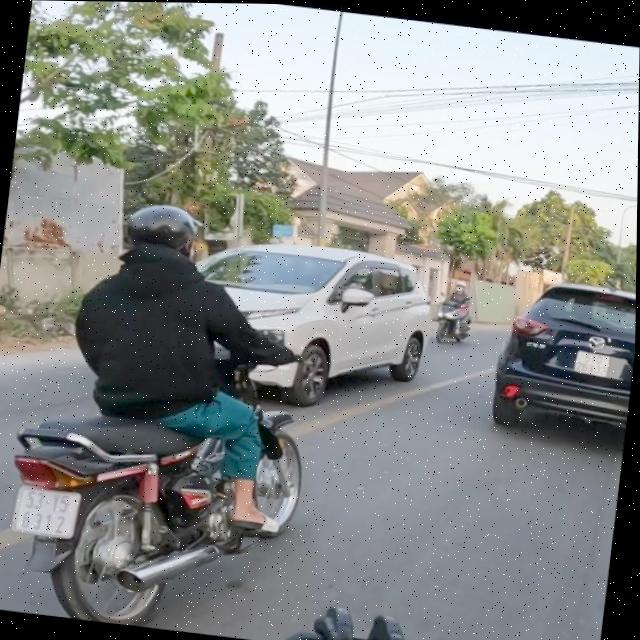car: (164, 227, 438, 411), (484, 267, 636, 450)
motorcycle: (0, 308, 332, 640), (428, 291, 480, 345)
plate: (11, 480, 79, 540), (568, 345, 622, 385)
